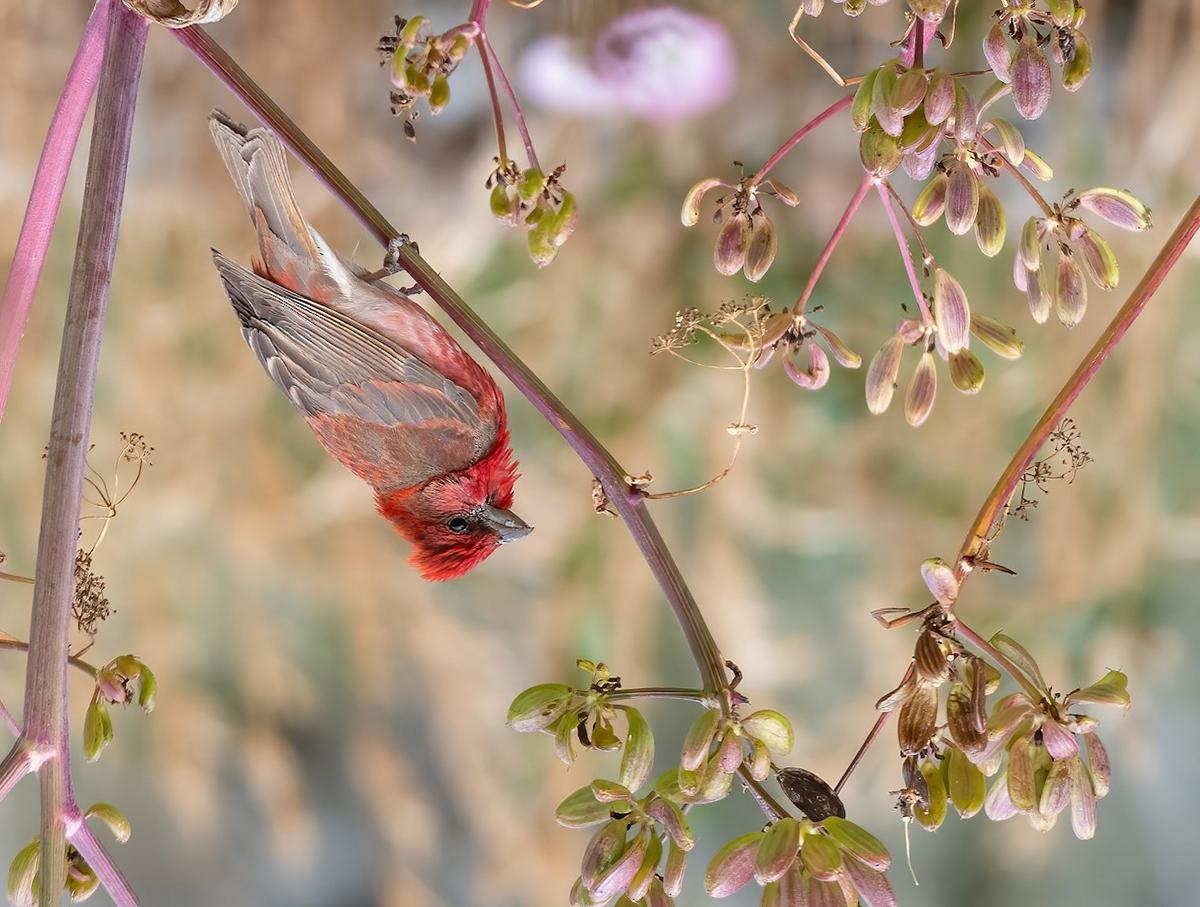rosefinch: (225, 200, 540, 574)
